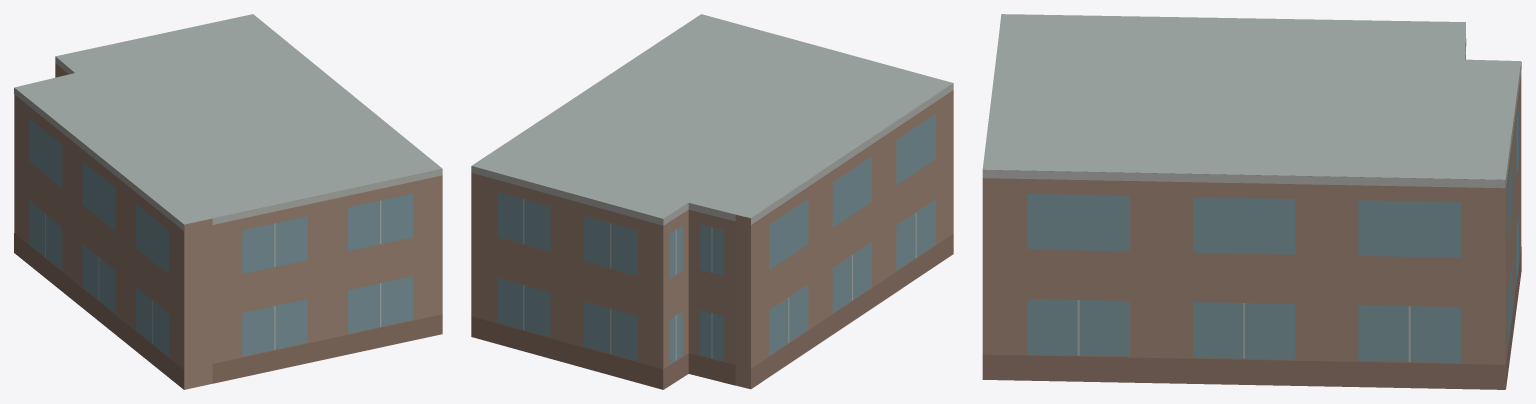
The model's file is survey-upis-32827171.glb.
3 views of the same model, side by side, from view 1: azimuth 30°, elevation 25°; view 2: azimuth 150°, elevation 25°; view 3: azimuth 270°, elevation 25° (orthographic). The views are drawn at different scales.
Visible parts, largest first — view 1: survey-upis-32827171.tmp; view 2: survey-upis-32827171.tmp; view 3: survey-upis-32827171.tmp.
Boxes of the visible parts, x1,y1,x2,y2 form: survey-upis-32827171.tmp: [14, 14, 442, 389]; survey-upis-32827171.tmp: [471, 14, 953, 389]; survey-upis-32827171.tmp: [982, 14, 1521, 389].
Size of the model in its own units: 10.34 by 6.1 by 14.19.
